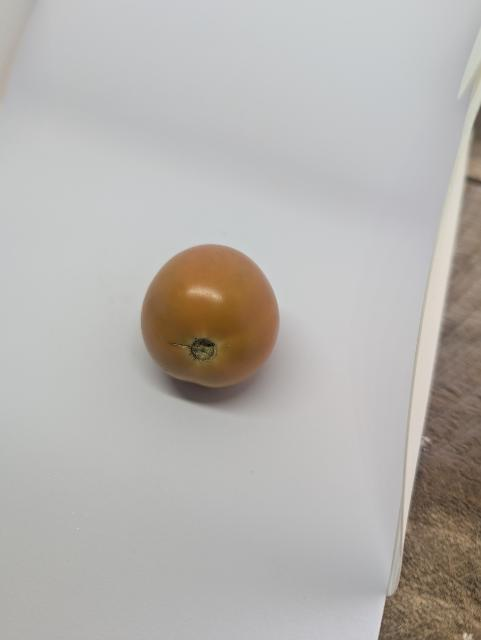turning: (138, 239, 284, 394)
